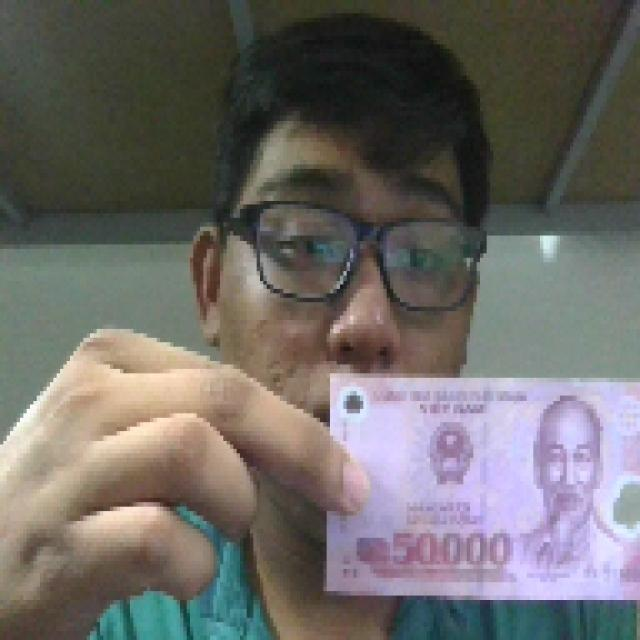20 000 VND: (316, 364, 636, 609)
